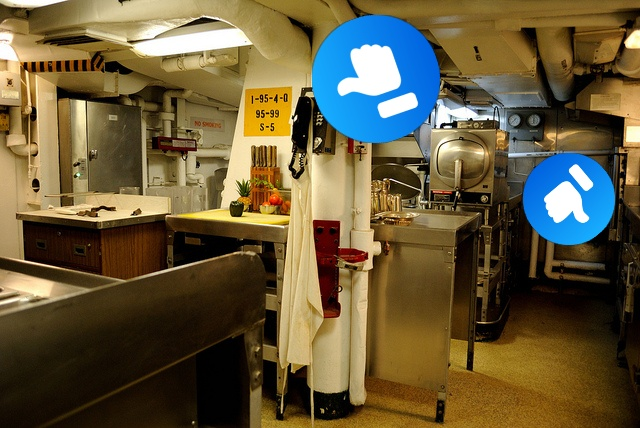like: (312, 15, 440, 143), (523, 153, 615, 245)
